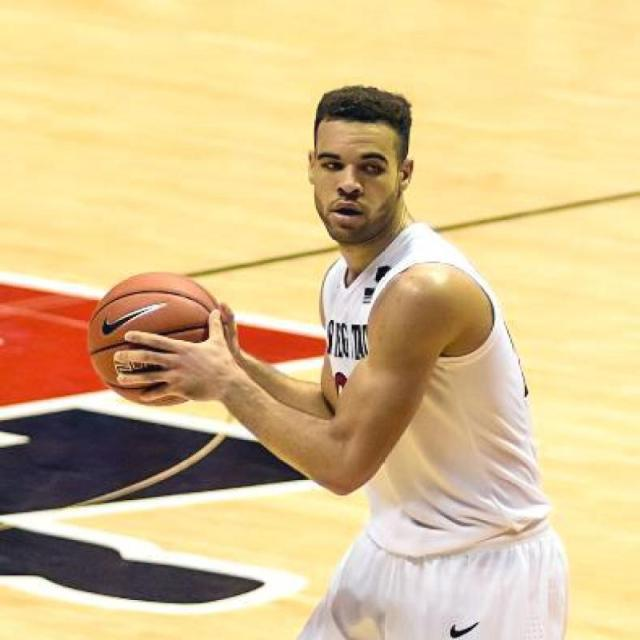volleyball: (89, 268, 227, 409)
